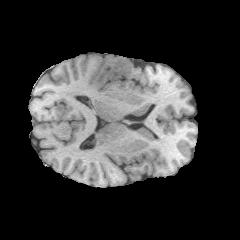glioma: (89, 56, 139, 88)
